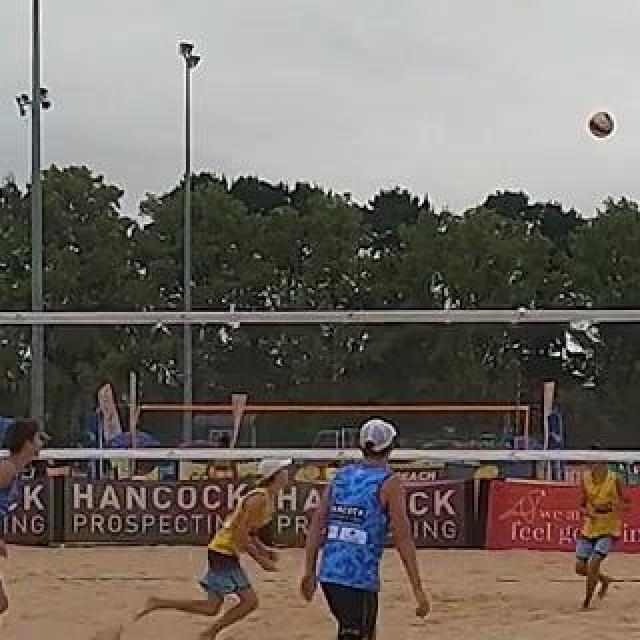volleyball: (588, 113, 614, 139)
